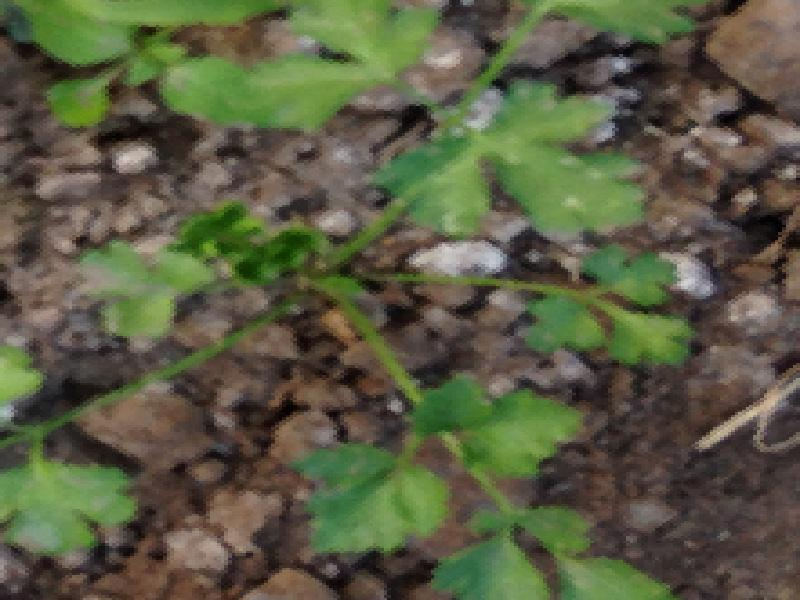radish: (44, 15, 664, 581)
